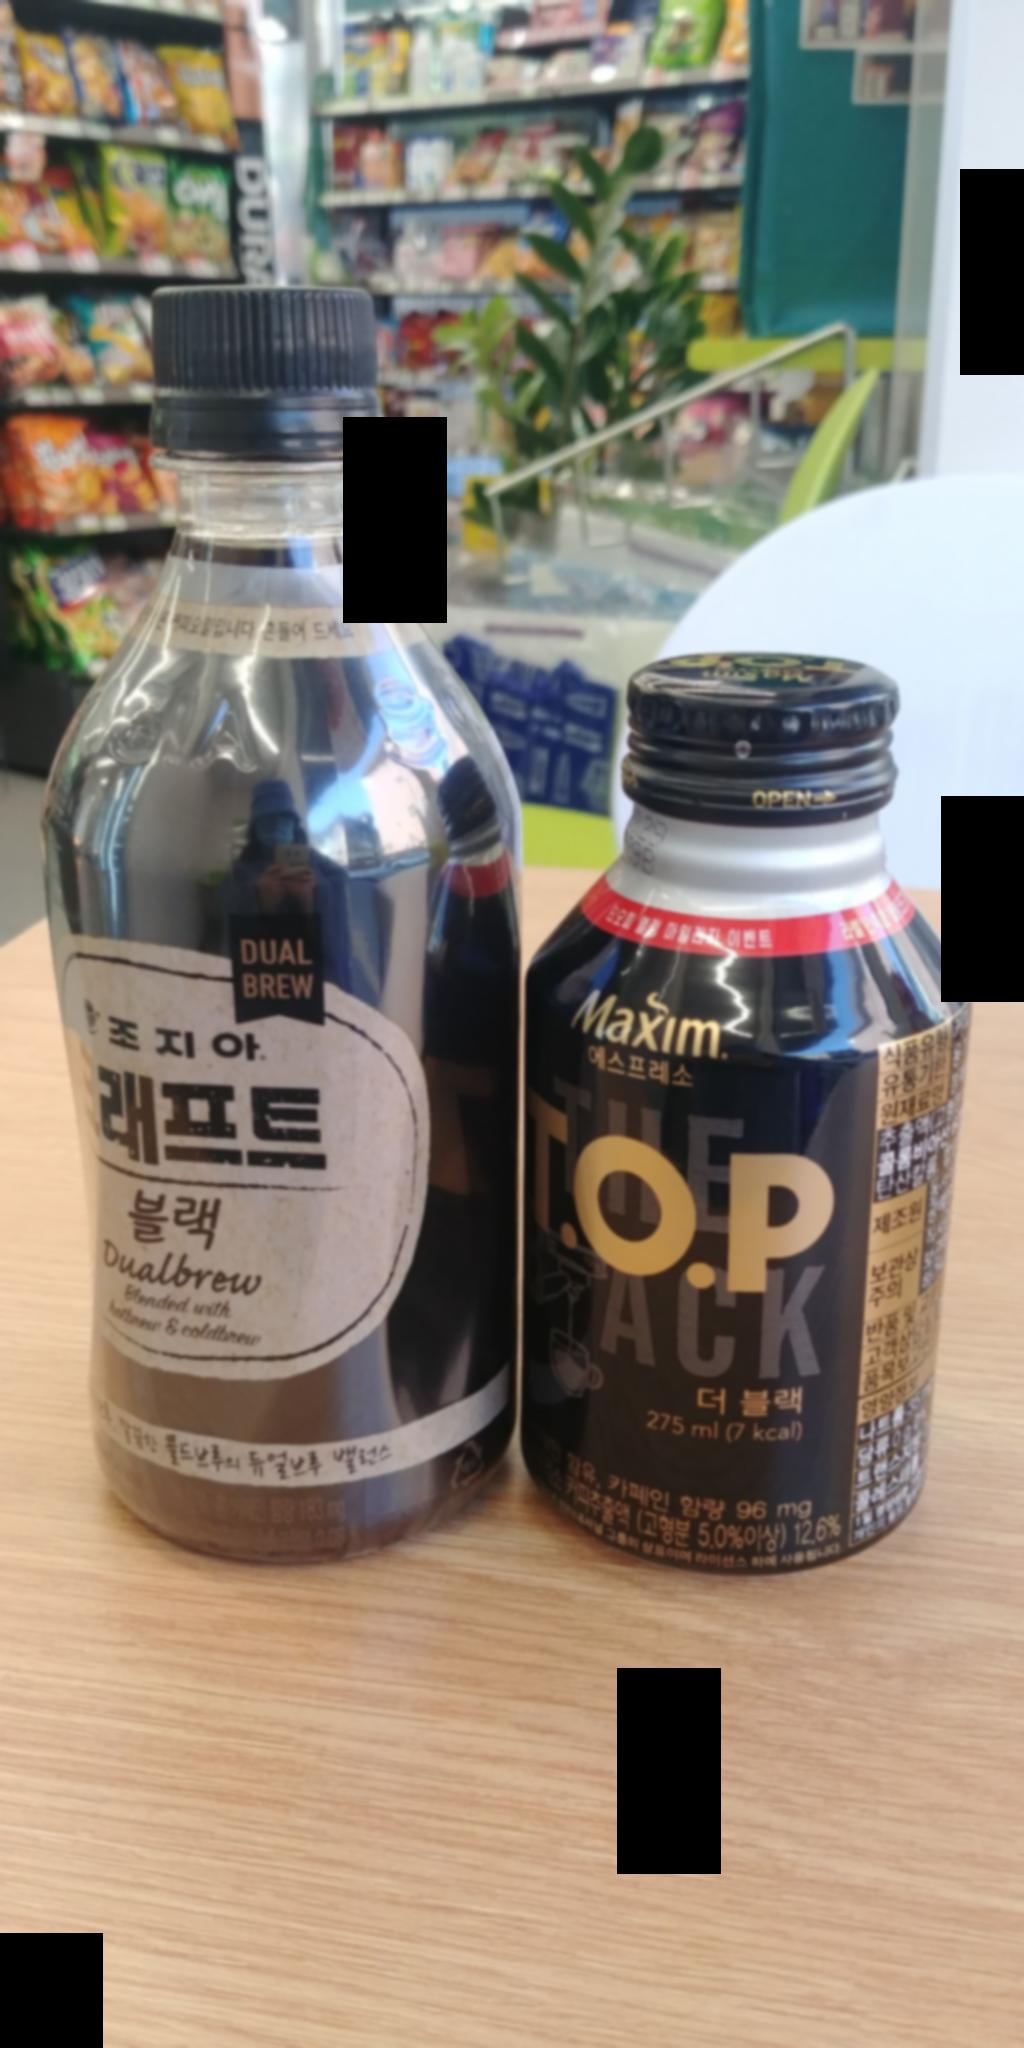TOP_black: (538, 630, 946, 1592)
georgiacraft_black: (47, 251, 521, 1595)
